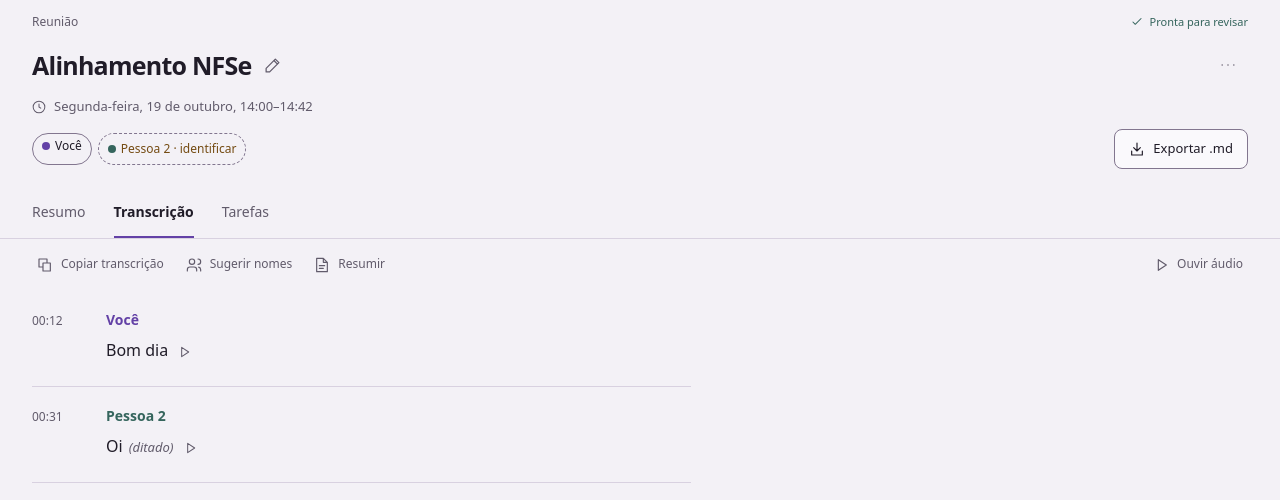
Test case: MeetingDetail › another action finishing does not re-enable Resumir while it runs
The image size is (1280, 500).
Step 1. Click the button "Resumir" → (350, 264), box [309,246,390,282]
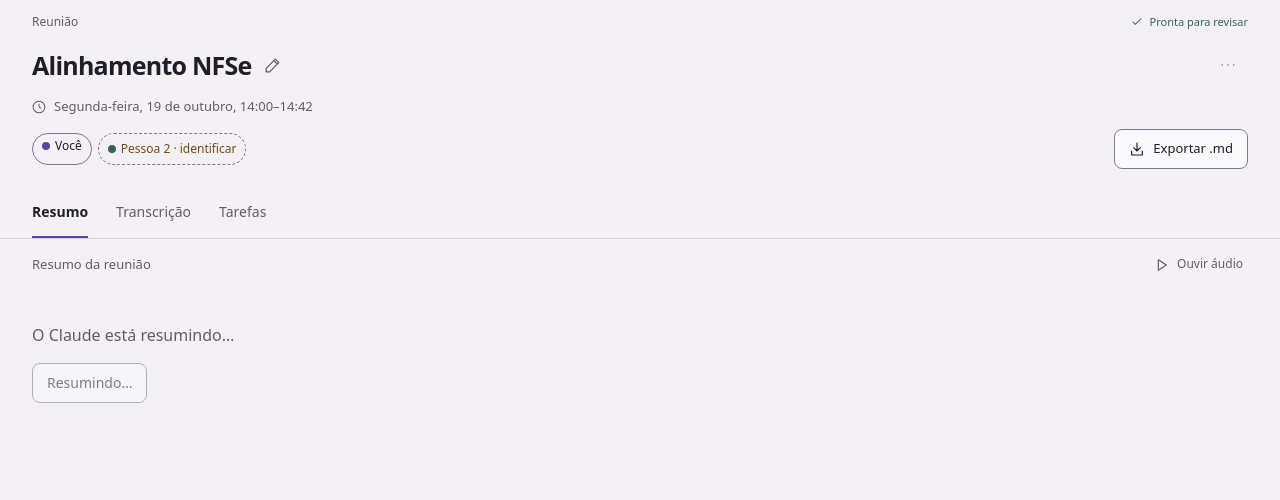
Expected: the button "Resumindo…" is disabled, [32,362,148,402]
Step 2. Click the tab "Transcrição" → (154, 212), box [116,186,191,238]
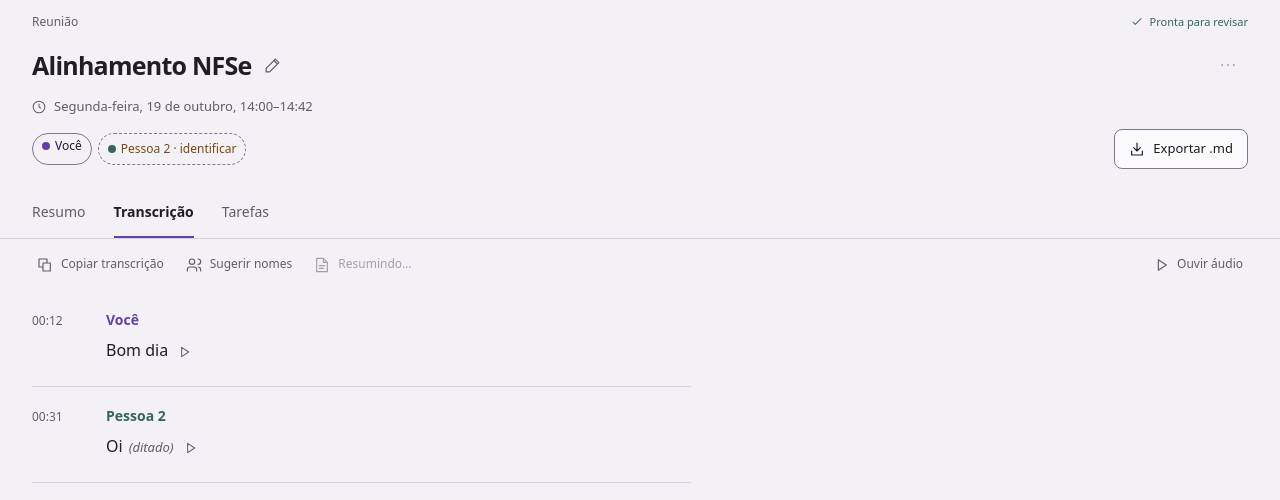
Step 3. Click the button "Copiar transcrição" → (100, 264), box [32,246,169,282]
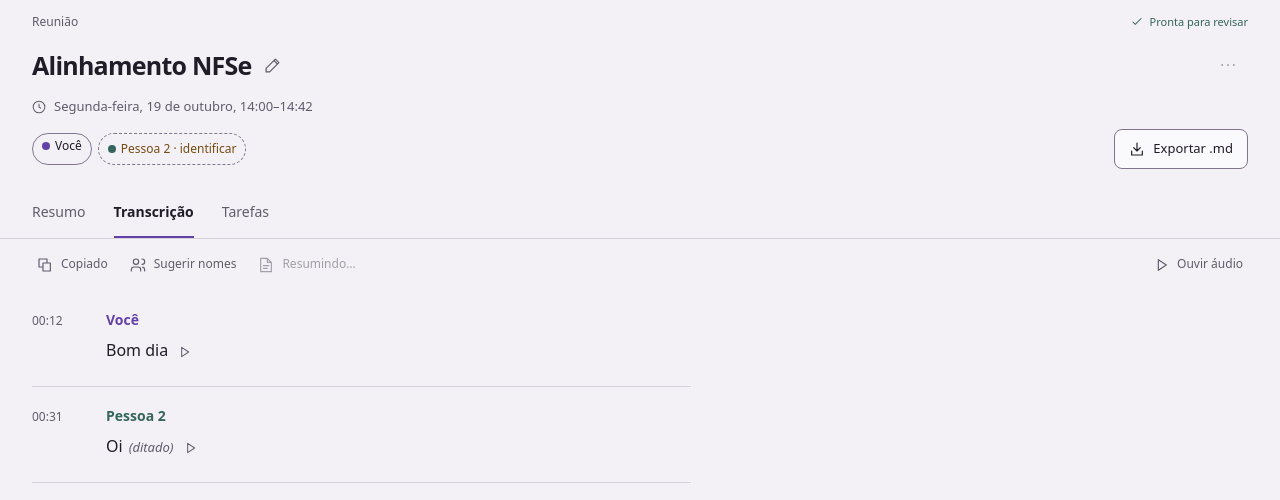
Expected: the button "Resumindo…" is disabled
Step 4. Click the button "Resumindo…" → (307, 264), box [253,246,361,282]
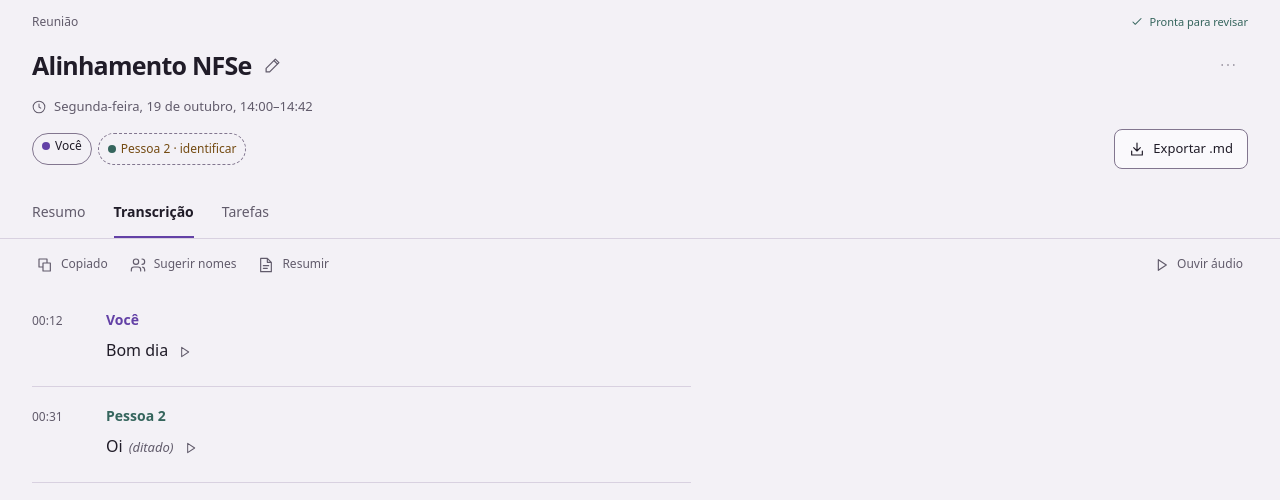
Expected: the button "Resumir" is enabled, [253,246,334,282]
